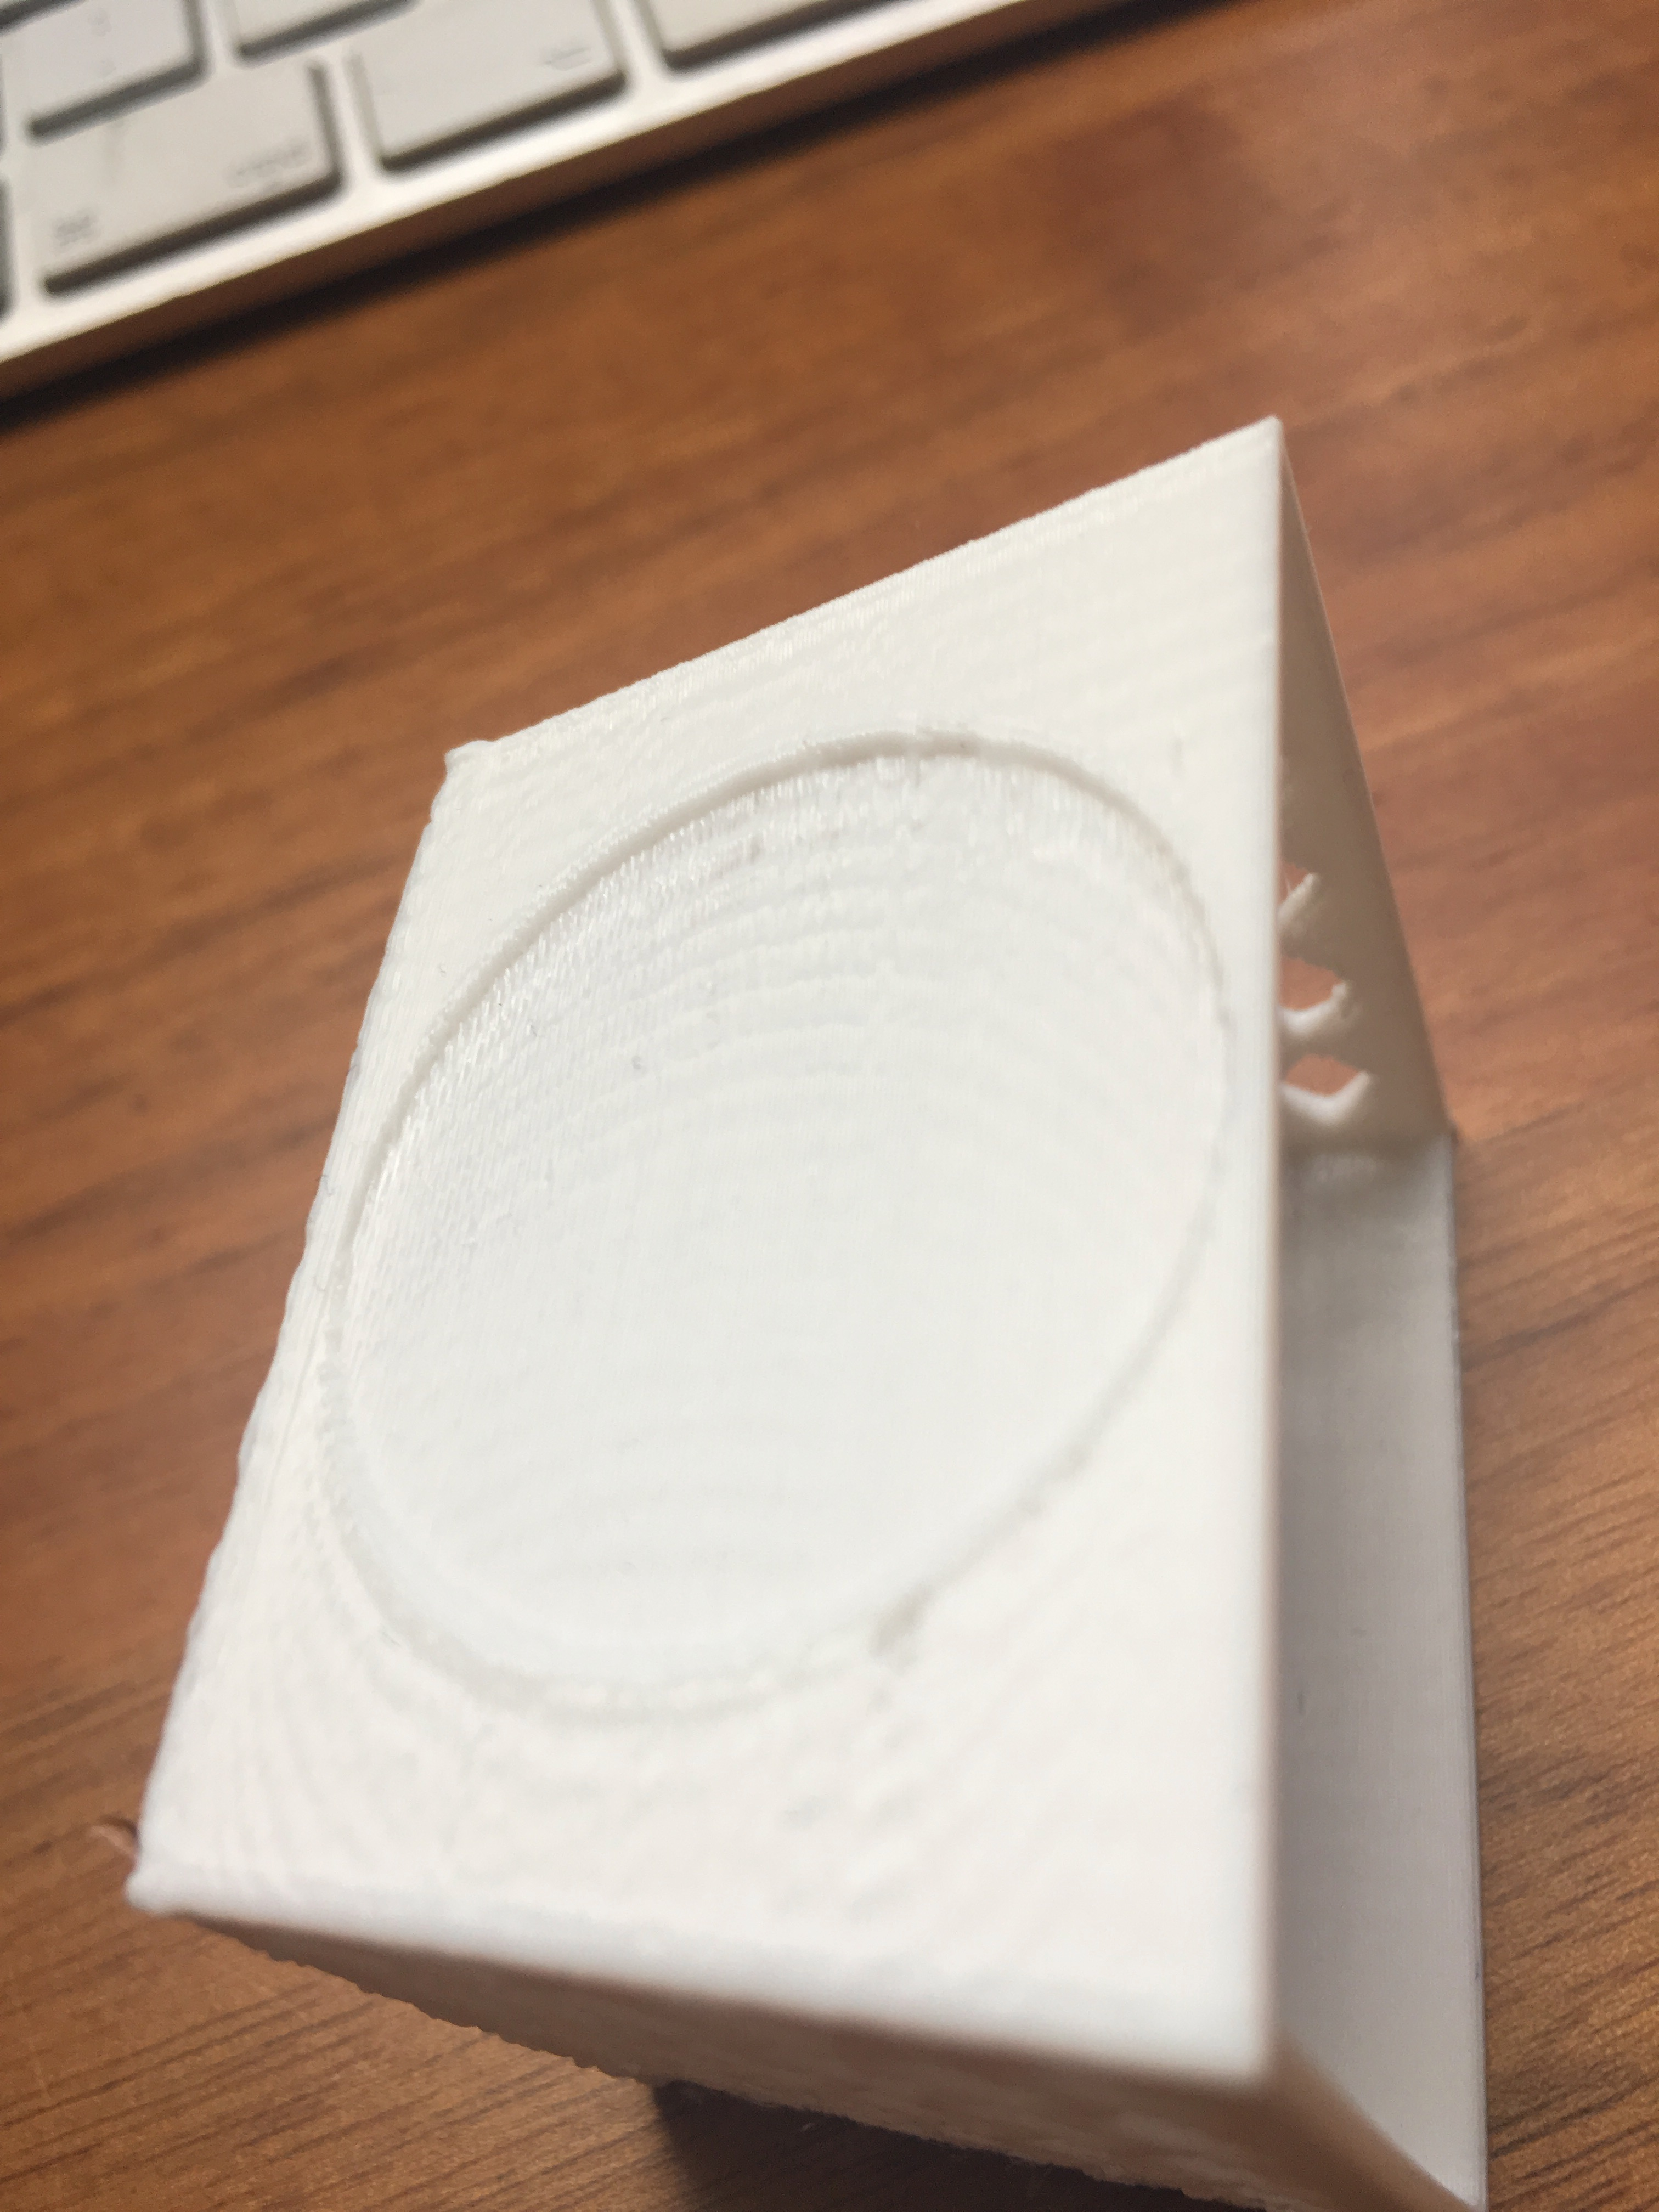3dpripples: (410, 913, 1126, 1298), (709, 1689, 1150, 1947), (197, 1749, 542, 1885), (735, 791, 1044, 890)
